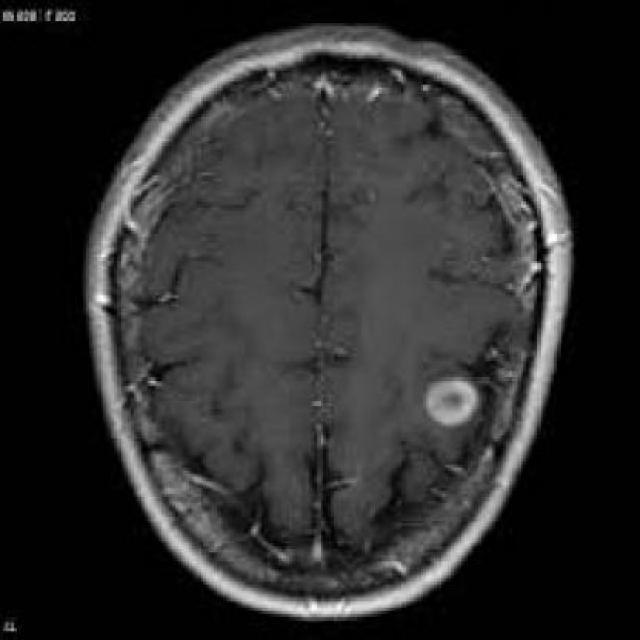Brain-Tumor: (406, 356, 496, 454)
